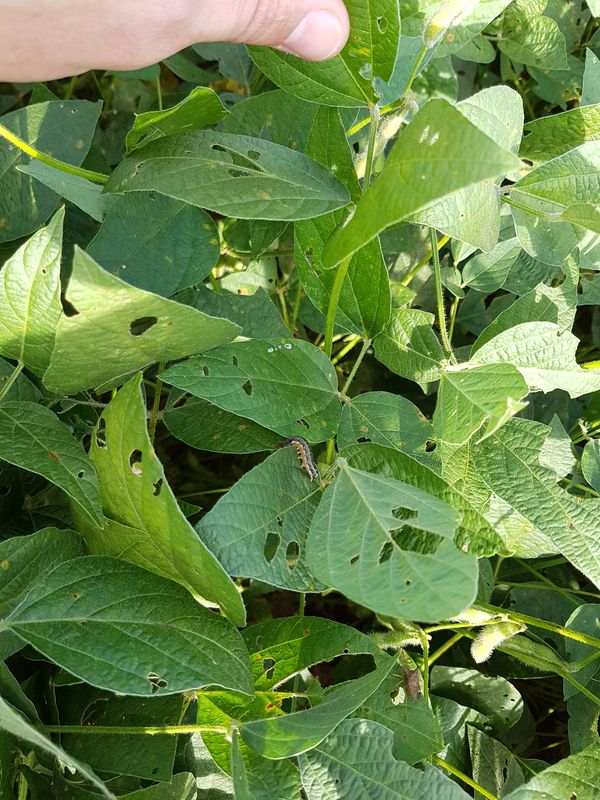Euschistus_heros_adulto: (384, 657, 436, 712)
Spodoptera_albula: (277, 426, 339, 491)
